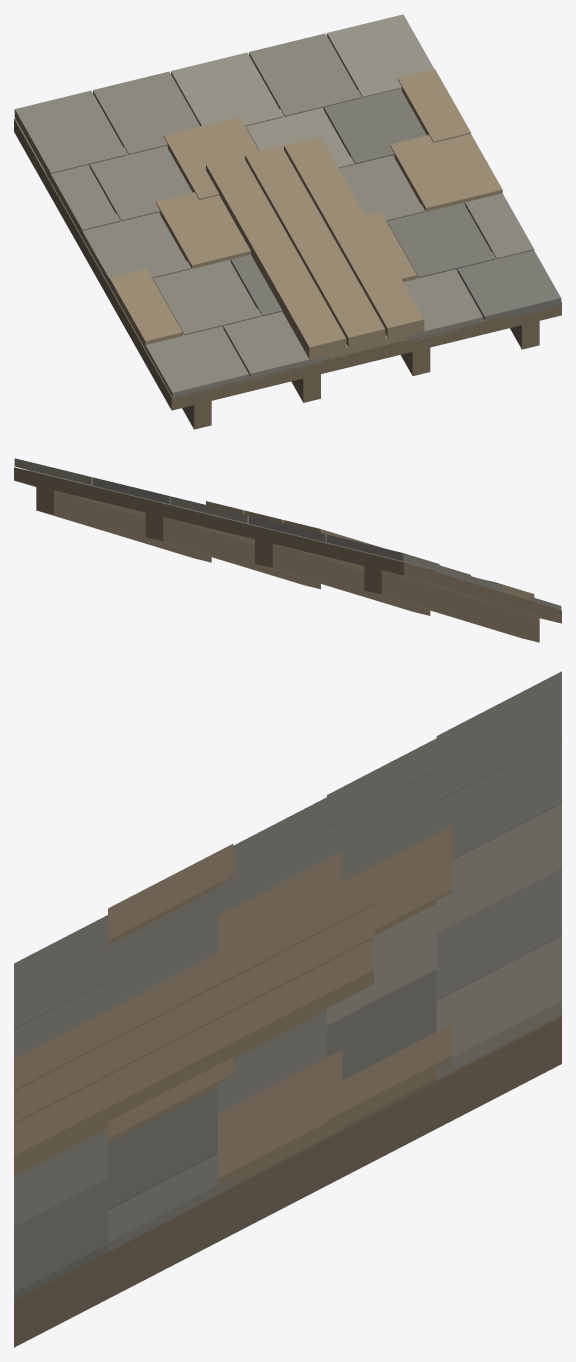
File: env_roof_shingle_timber_patch_c_v05_mixed_shingles.glb
3 renders of one model, top to bottom at view 1: azimuth 30°, elevation 25°; view 2: azimuth 150°, elevation 25°; view 3: azimuth 270°, elevation 25°, orthographic. The views are drawn at different scales.
Parts seen in each view (by area): view 1: material_4, material_3, material_6, material_5, material_2; view 2: material_2, material_4, material_5, material_3; view 3: material_3, material_4, material_2, material_5, material_6.
Boxes of the visible parts, left/top/right/bottom form: material_4: left=14, top=33, right=534, bottom=399; material_3: left=109, top=69, right=502, bottom=359; material_6: left=231, top=89, right=561, bottom=320; material_5: left=171, top=14, right=433, bottom=168; material_2: left=14, top=118, right=561, bottom=429; material_2: left=14, top=467, right=561, bottom=642; material_4: left=93, top=477, right=561, bottom=609; material_5: left=14, top=458, right=262, bottom=527; material_3: left=206, top=501, right=534, bottom=600; material_3: left=14, top=825, right=452, bottom=1191; material_4: left=14, top=671, right=561, bottom=1251; material_2: left=14, top=1015, right=561, bottom=1347; material_5: left=327, top=803, right=561, bottom=1079; material_6: left=14, top=970, right=436, bottom=1300.
Bounding box in the file's own units: 2 × 1.03 × 1.4.
